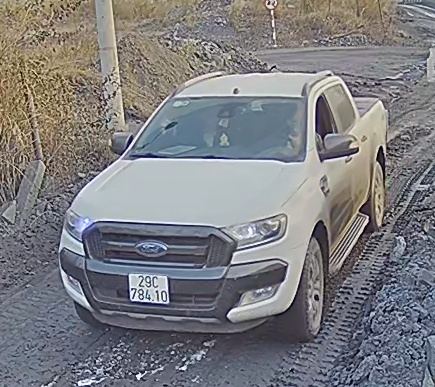vehicle plate: (124, 271, 176, 304)
